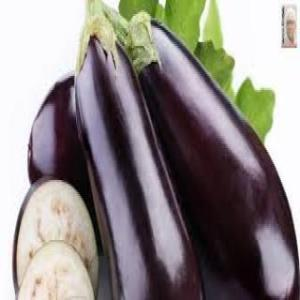eggplant: (130, 15, 296, 292), (76, 18, 194, 298)
